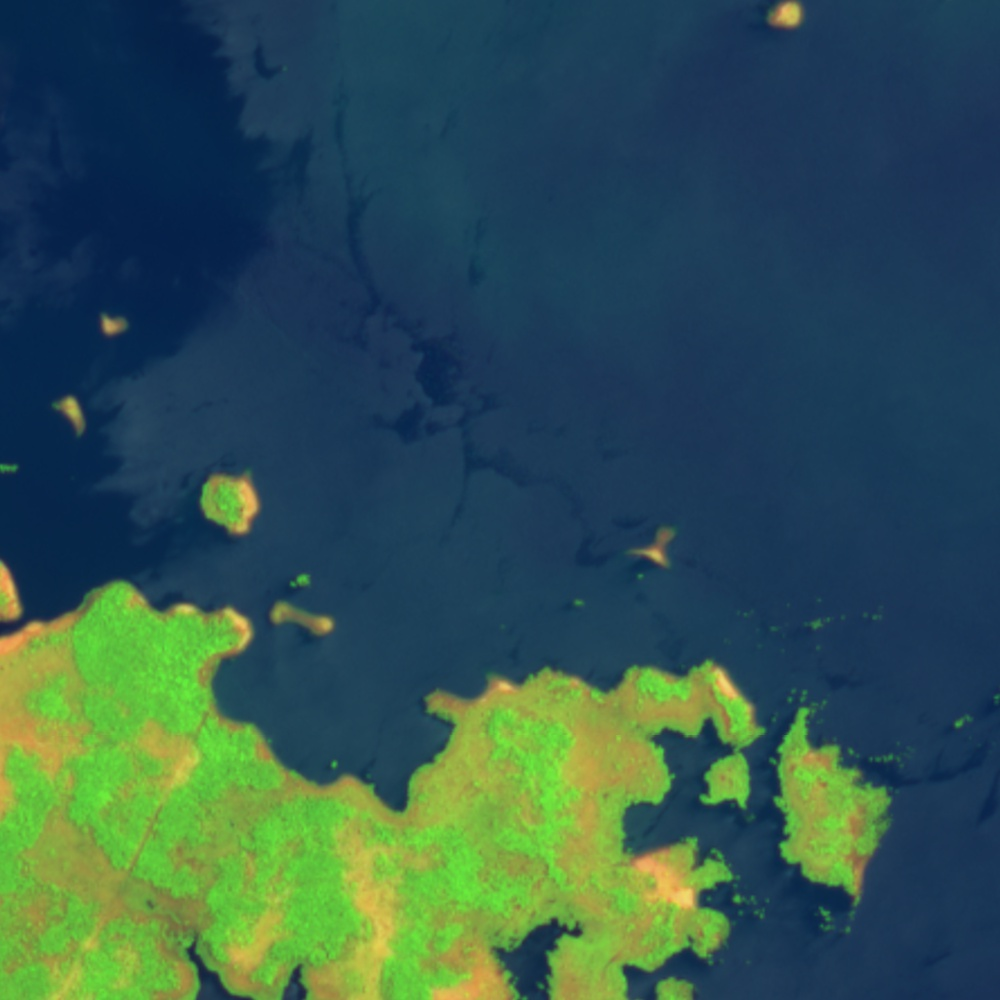legal: (168, 883, 683, 1000), (1, 543, 111, 773)
